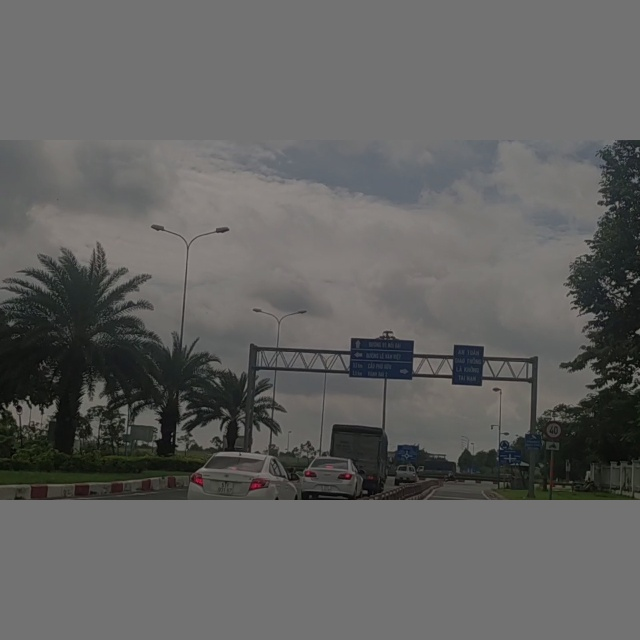P.127*40: (544, 420, 563, 439)
S.505a*Xe may: (544, 439, 561, 451)
